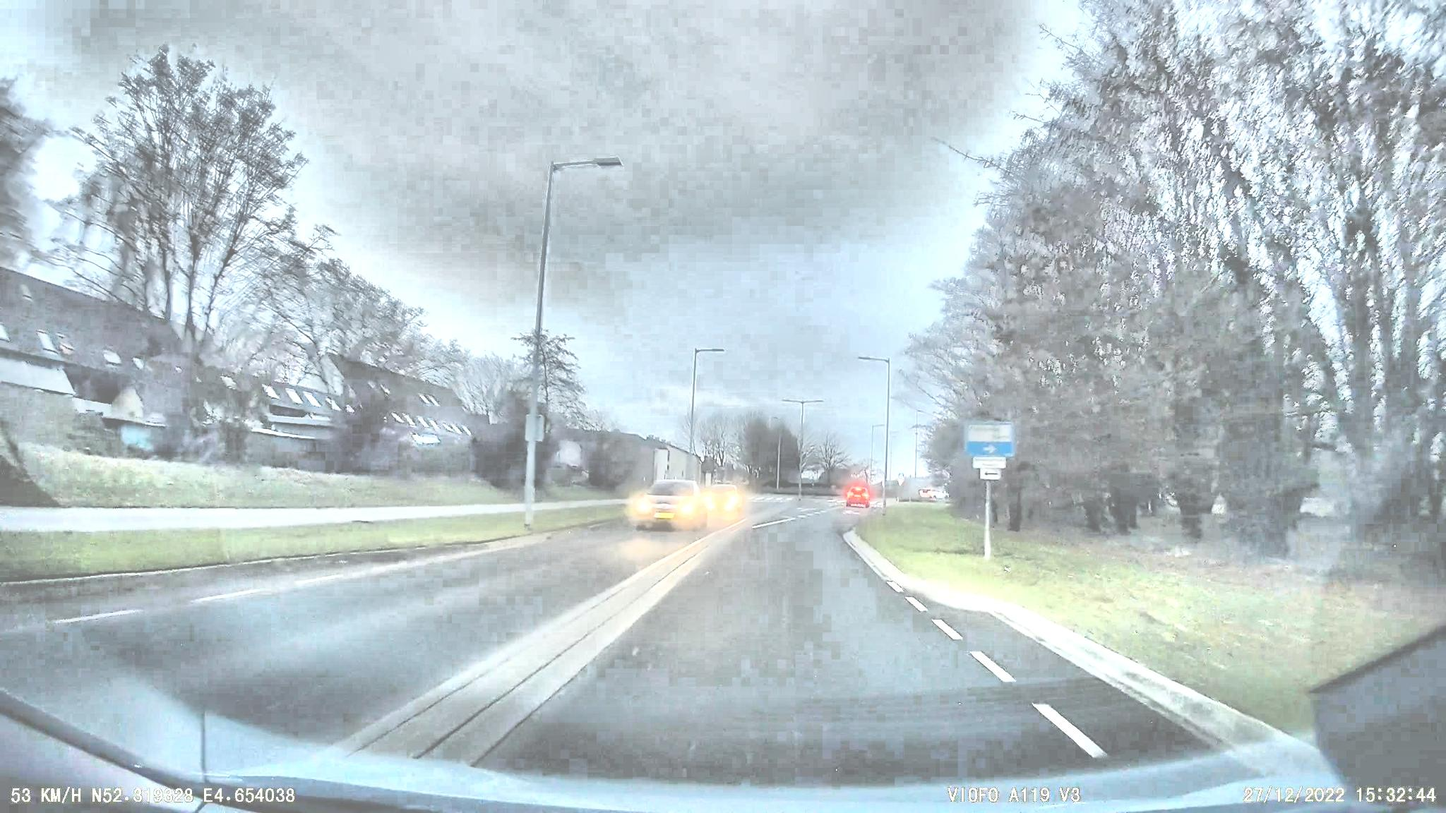Roads: (0, 501, 1446, 813)
